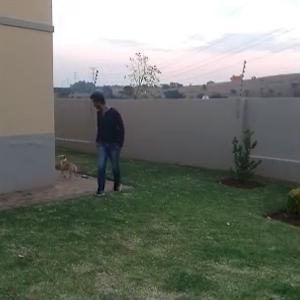follow: (90, 83, 125, 202)
